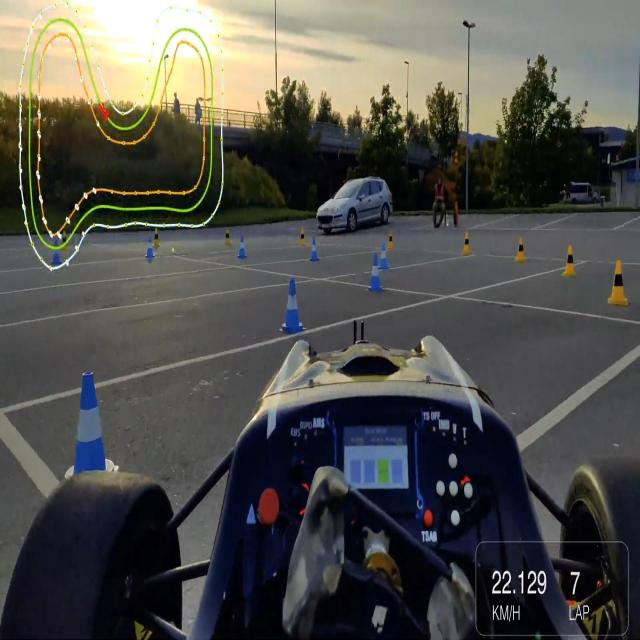blue_cone: (61, 367, 117, 489), (280, 279, 306, 334), (367, 255, 383, 292), (378, 245, 390, 272), (50, 238, 61, 266), (144, 234, 155, 258), (238, 234, 248, 260), (310, 237, 319, 263)
yellow_cone: (608, 259, 628, 306), (562, 244, 576, 278), (516, 237, 526, 264), (462, 233, 472, 256), (62, 229, 71, 252), (152, 228, 161, 250), (385, 230, 394, 250), (299, 228, 307, 250), (224, 229, 232, 247)
